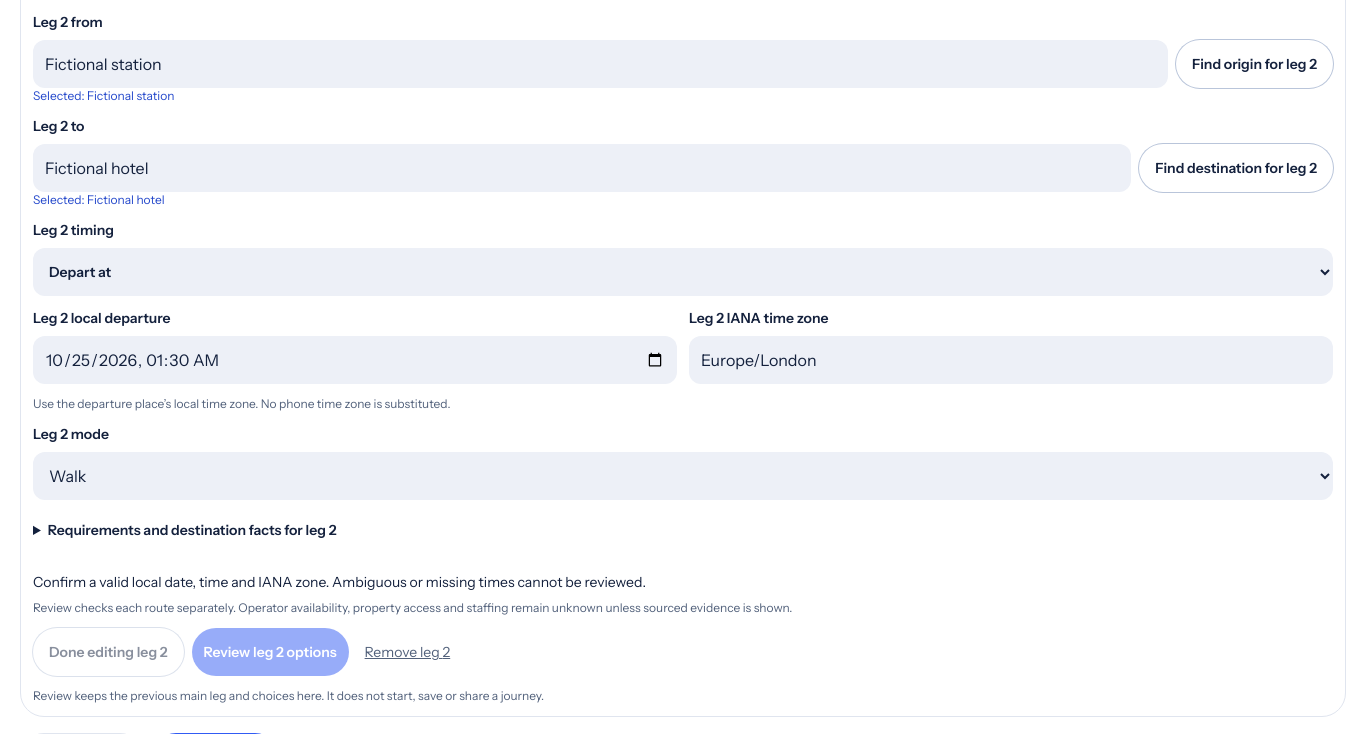
Scenario: progressive event return and editable travel legs › refuses ambiguous local times and lets the user correct a leg without overwriting the event
(page scrolled)
Expected: the button "Review leg 2 options" is disabled, [192,628,349,676]
Replace the text in the field labelled "Leg 2 local departure" with "2026-10-25T03:30" at (355, 360), box [33,336,677,384]
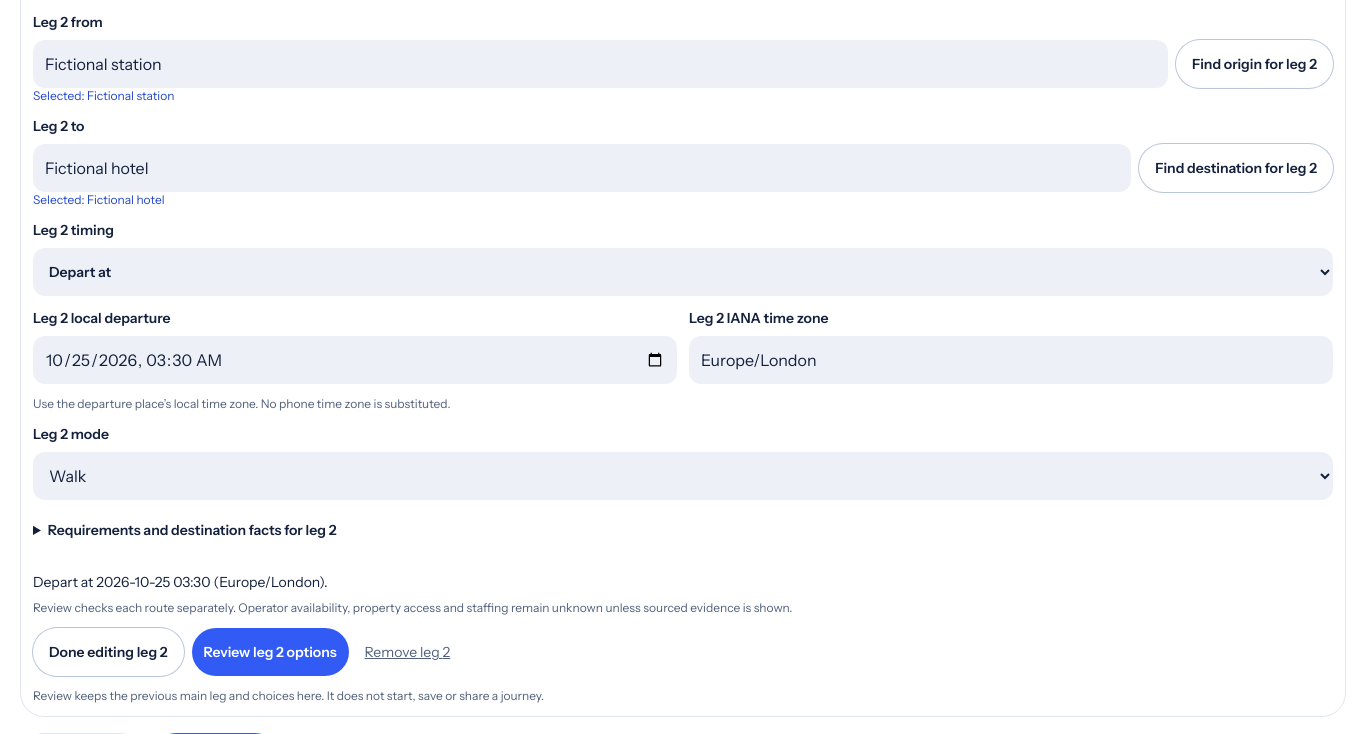
Expected: the button "Review leg 2 options" is enabled, [192,628,349,676]
